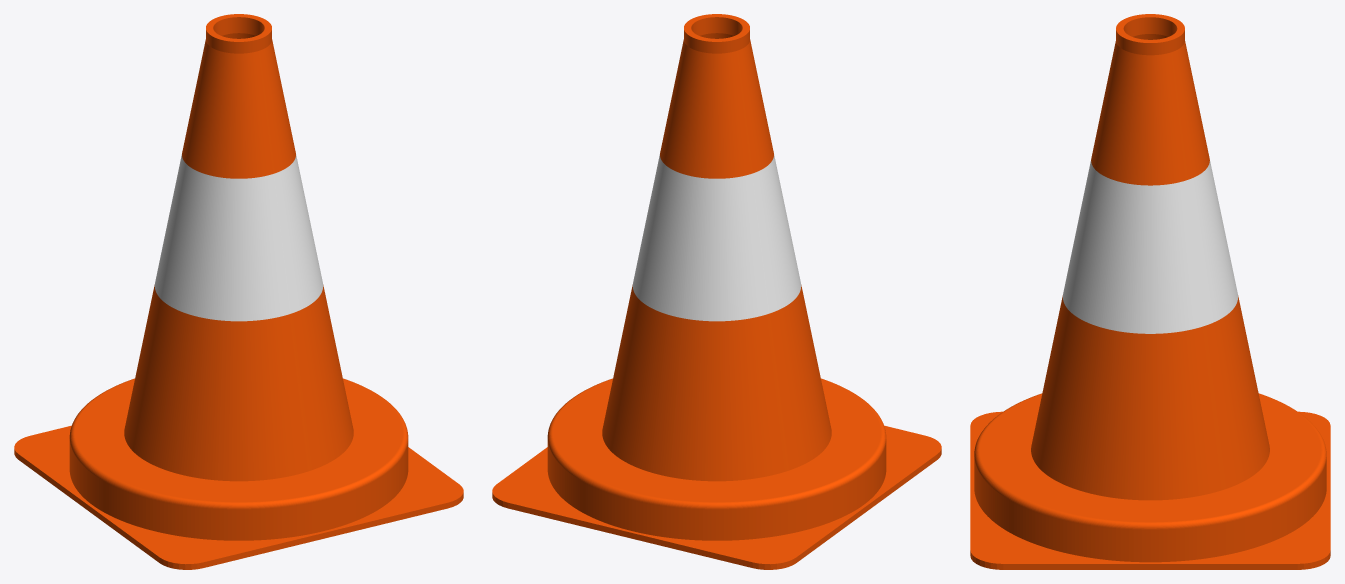
File: class_2.dae
3 renders of one model, left to right at view 1: azimuth 30°, elevation 25°; view 2: azimuth 150°, elevation 25°; view 3: azimuth 270°, elevation 25°, orthographic. The views are drawn at different scales.
Parts seen in each view (by area): view 1: Blue_Cone; view 2: Blue_Cone; view 3: Blue_Cone.
Part boxes in pixels (x1,y1,x2,y2): Blue_Cone: [14, 14, 463, 569]; Blue_Cone: [492, 14, 941, 569]; Blue_Cone: [970, 14, 1330, 569].
Bounding box in the file's own units: 0.228 × 0.228 × 0.325.
